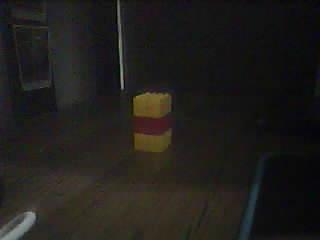lego: (133, 92, 173, 153)
